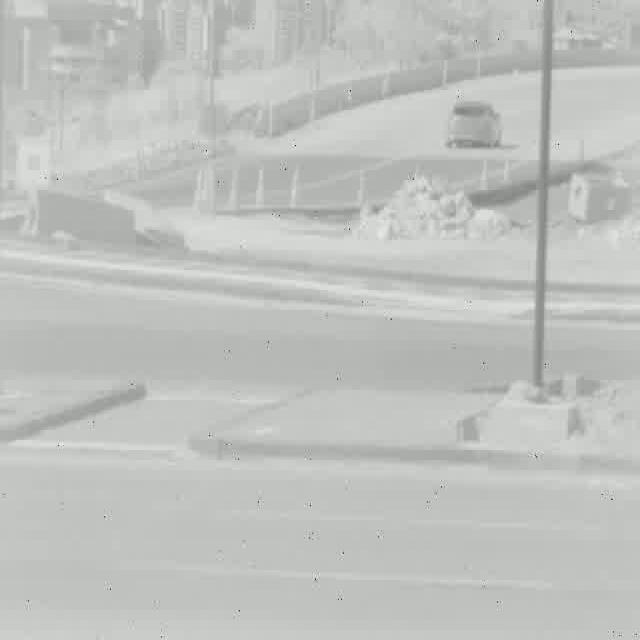Car: (446, 101, 500, 150)
